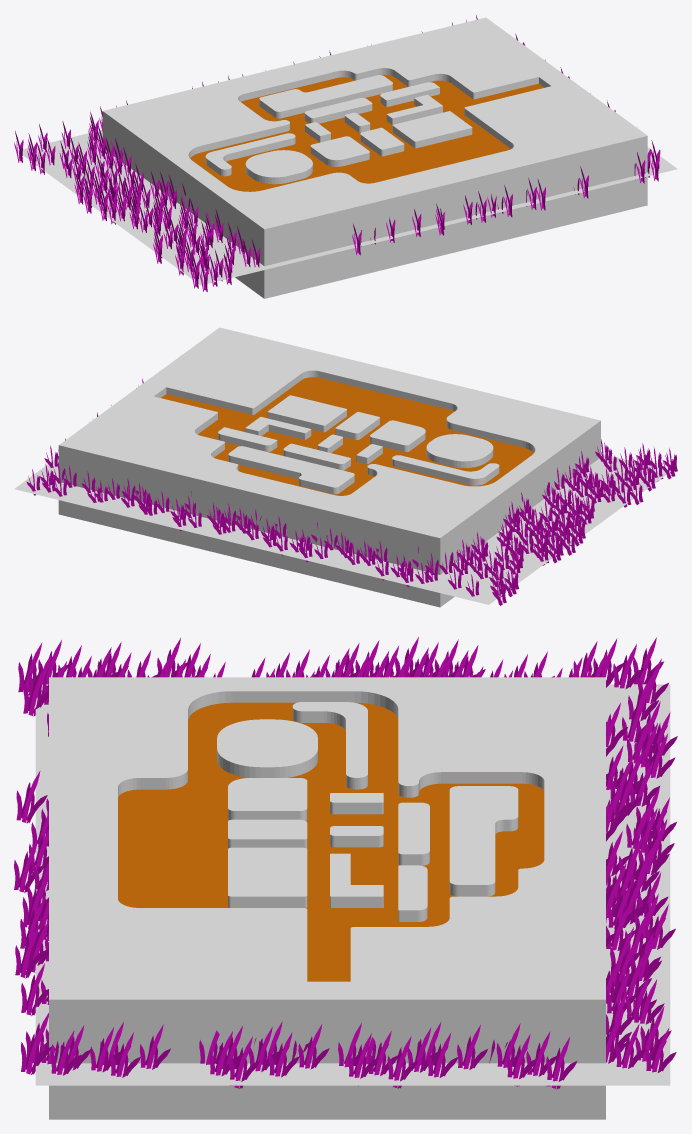
The model's file is fungi3.fbx.
3 views of the same model, one above another, from view 1: azimuth 30°, elevation 25°; view 2: azimuth 150°, elevation 25°; view 3: azimuth 270°, elevation 25° (orthographic). The views are drawn at different scales.
Parts seen in each view (by area): view 1: Fungi, Cube, Plane; view 2: Fungi, Plane, Cube; view 3: Fungi, Cube, Plane.
Boxes of the visible parts, left/top/right/bottom form: Fungi: left=102, top=17, right=647, bottom=298; Cube: left=190, top=74, right=544, bottom=191; Plane: left=17, top=130, right=677, bottom=285; Fungi: left=58, top=327, right=600, bottom=607; Plane: left=14, top=454, right=670, bottom=604; Cube: left=161, top=377, right=533, bottom=495; Fungi: left=49, top=677, right=605, bottom=1119; Cube: left=118, top=702, right=544, bottom=981; Plane: left=35, top=684, right=670, bottom=1085.
Bounding box in the file's own units: 7.49 × 10.93 × 1.69.
